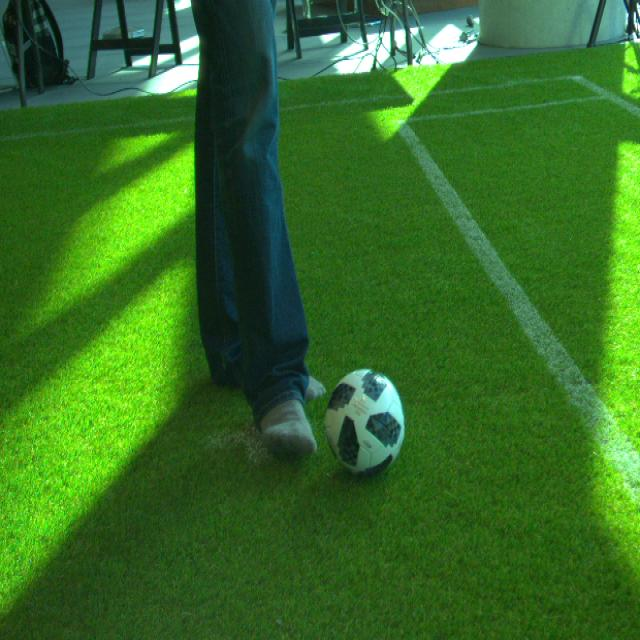ball: (323, 368, 406, 479)
